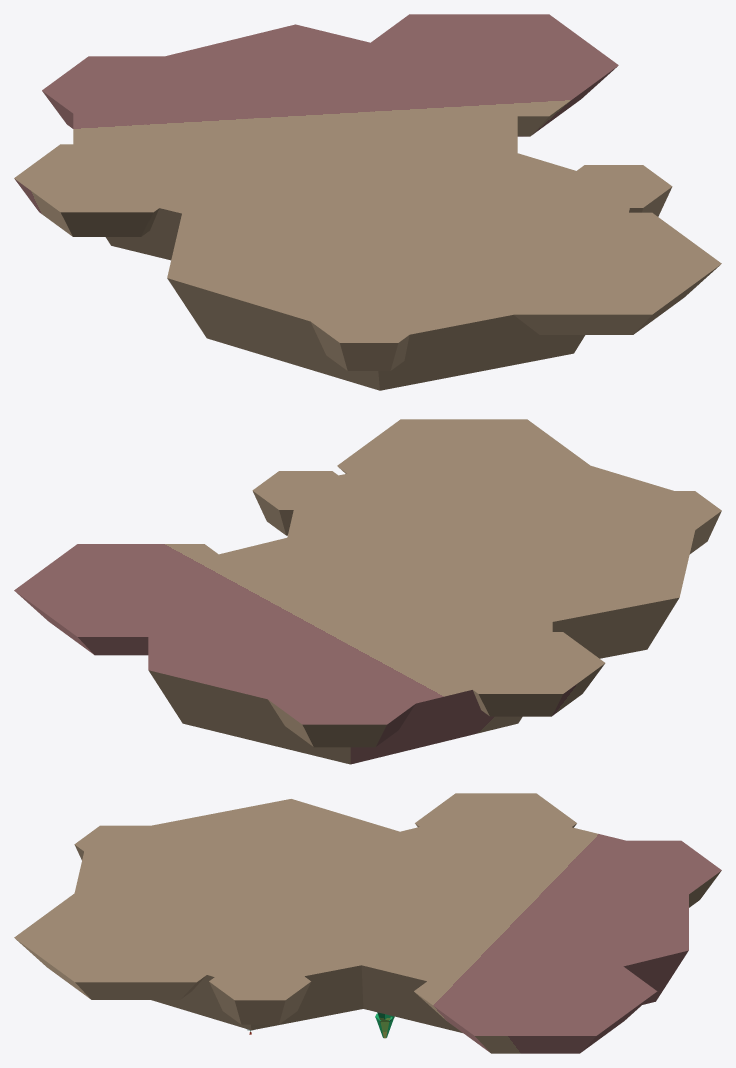
File: island.obj
3 views of the same model, one above another, from view 1: azimuth 30°, elevation 25°; view 2: azimuth 150°, elevation 25°; view 3: azimuth 270°, elevation 25° (orthographic). The views are drawn at different scales.
Visible parts, largest first — view 1: rockFlatGrass; view 2: rockFlatGrass; view 3: rockFlatGrass.
Boxes of the visible parts, left/top/right/bottom form: rockFlatGrass: left=14, top=14, right=721, bottom=390; rockFlatGrass: left=14, top=419, right=721, bottom=764; rockFlatGrass: left=14, top=793, right=721, bottom=1053.
Bounding box in the file's own units: 130 × 34.81 × 161.
